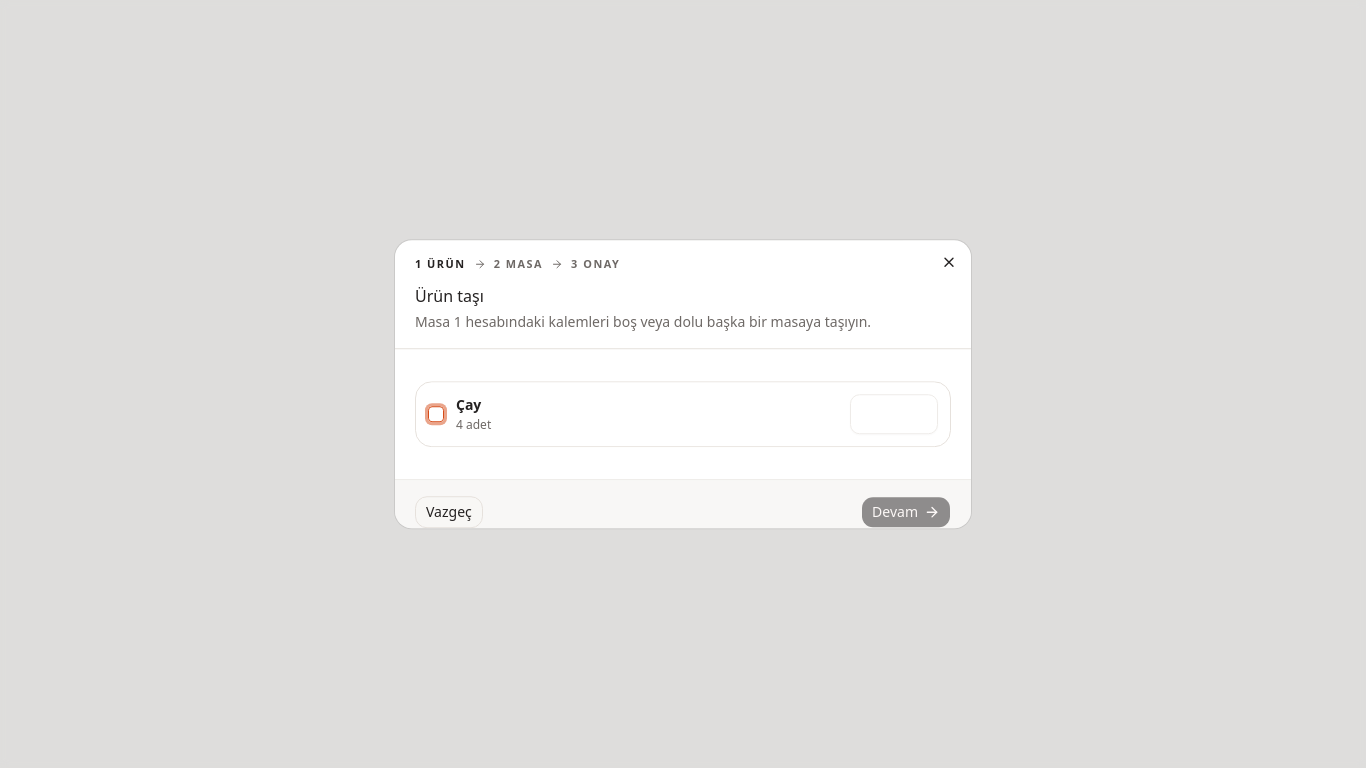
Test: CashierItemTransferDialog › steps by exactly one and stays within the item limits
This screenshot has width=1366, height=768.
Click the checkbox named "Çay ürününü seç" at (436, 414), box [428,406,444,422]
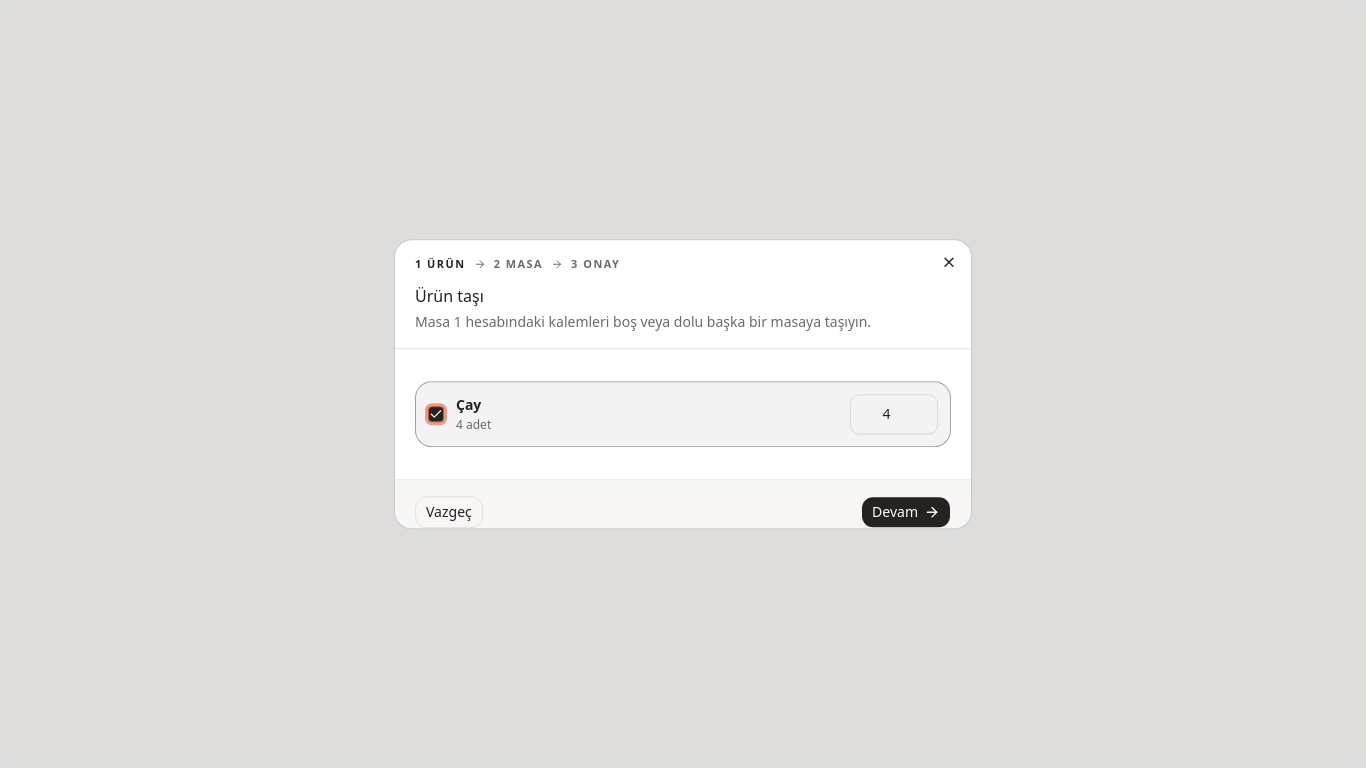
expect the number field named "Çay taşınacak adet" holds "4": met
Press ArrowDown in the number field named "Çay taşınacak adet", box [850,394,938,434]
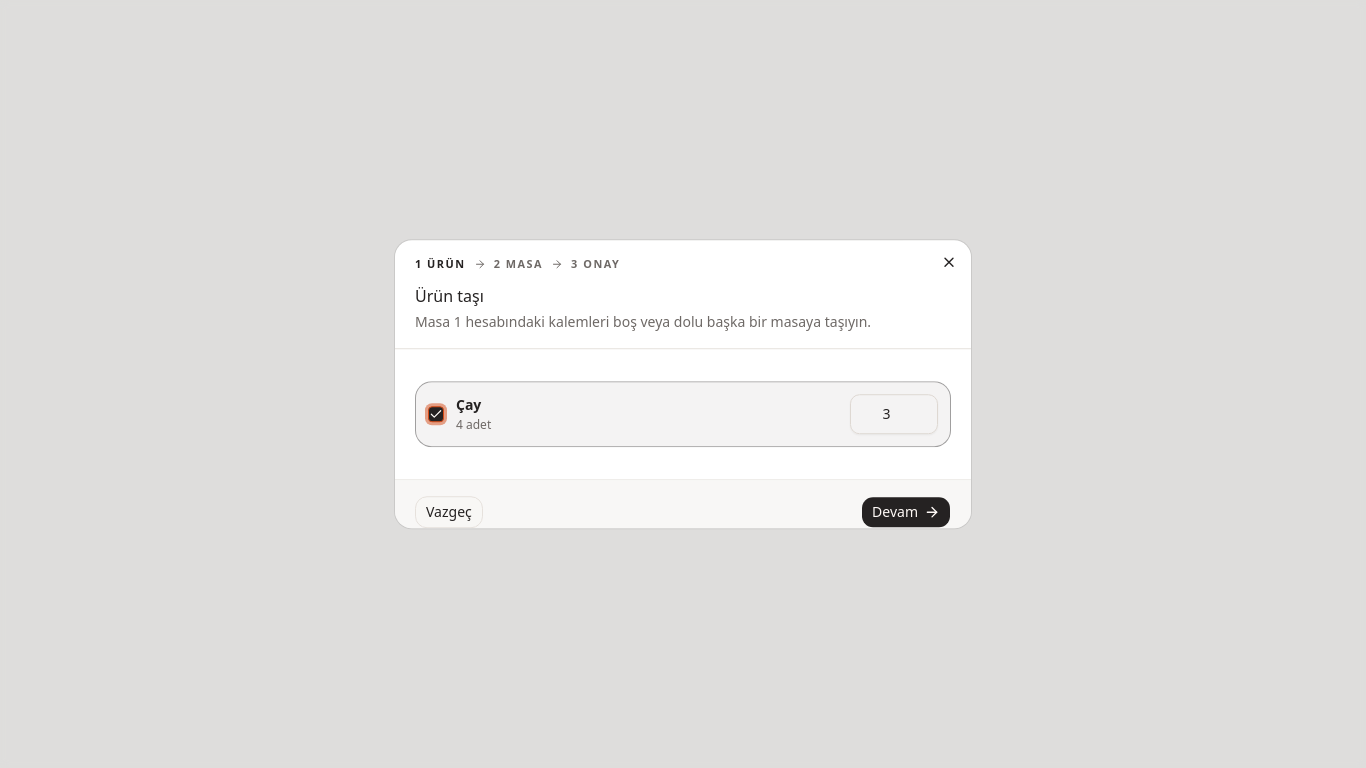
expect the number field named "Çay taşınacak adet" holds "3": met
Press ArrowUp in the number field named "Çay taşınacak adet", box [850,394,938,434]
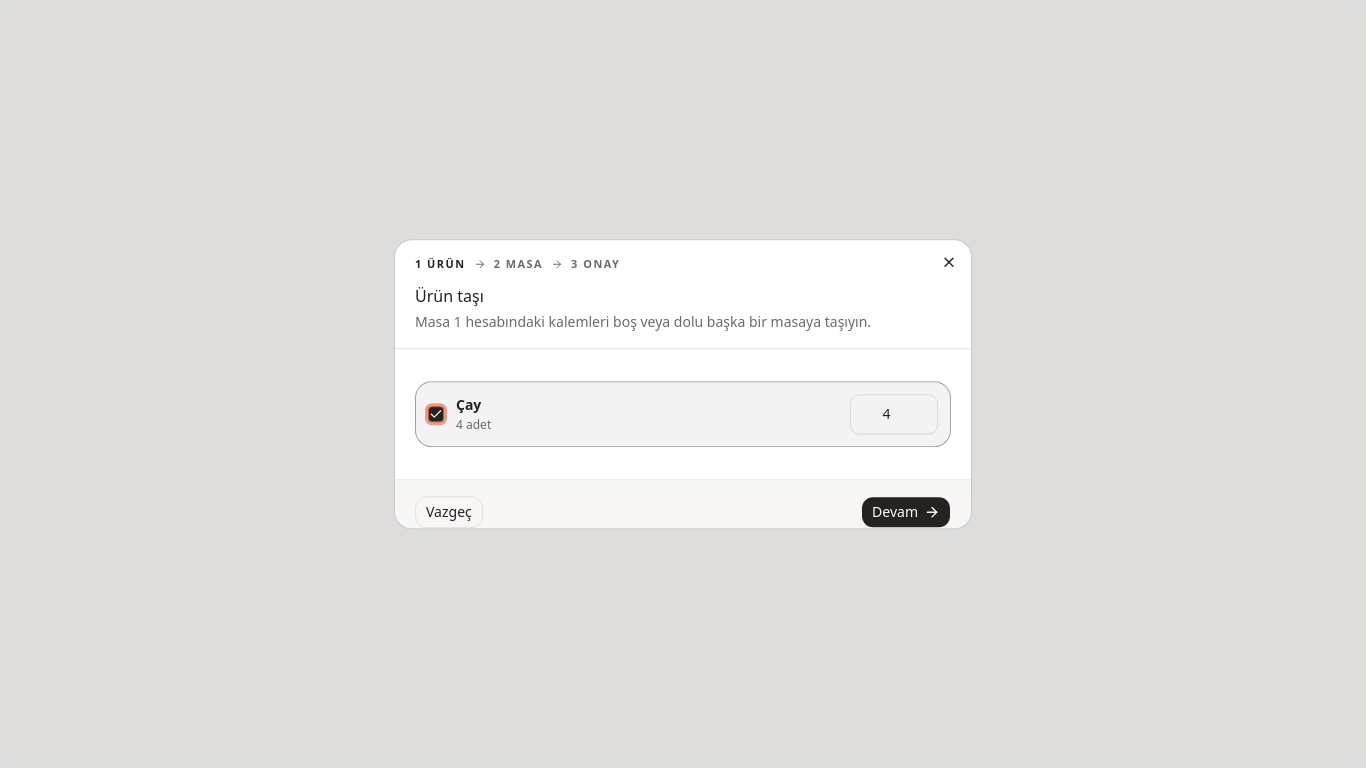
Press ArrowUp in the number field named "Çay taşınacak adet", box [850,394,938,434]
expect the number field named "Çay taşınacak adet" holds "4": met
Replace the text in the number field named "Çay taşınacak adet" with "1" at (894, 414), box [850,394,938,434]
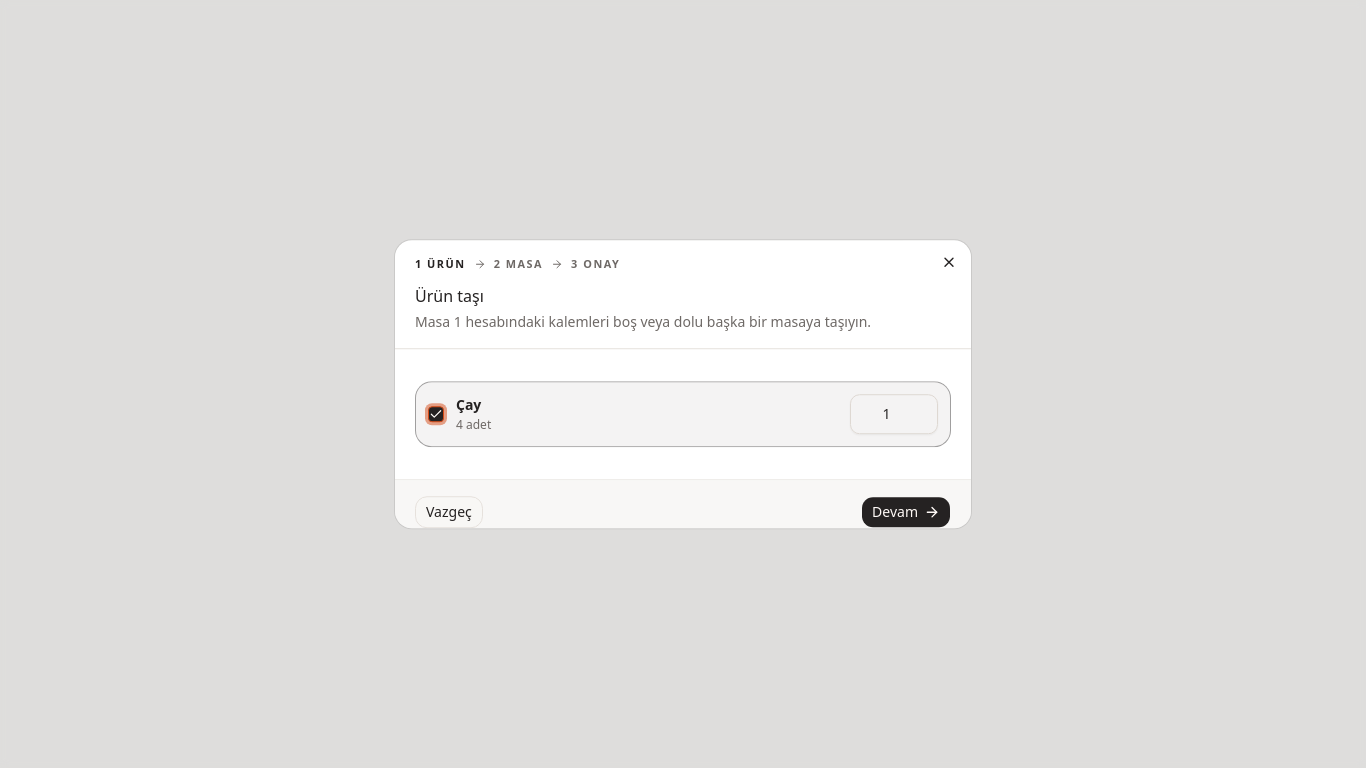
Press ArrowDown in the number field named "Çay taşınacak adet", box [850,394,938,434]
Replace the text in the number field named "Çay taşınacak adet" with "1.5" at (894, 414), box [850,394,938,434]
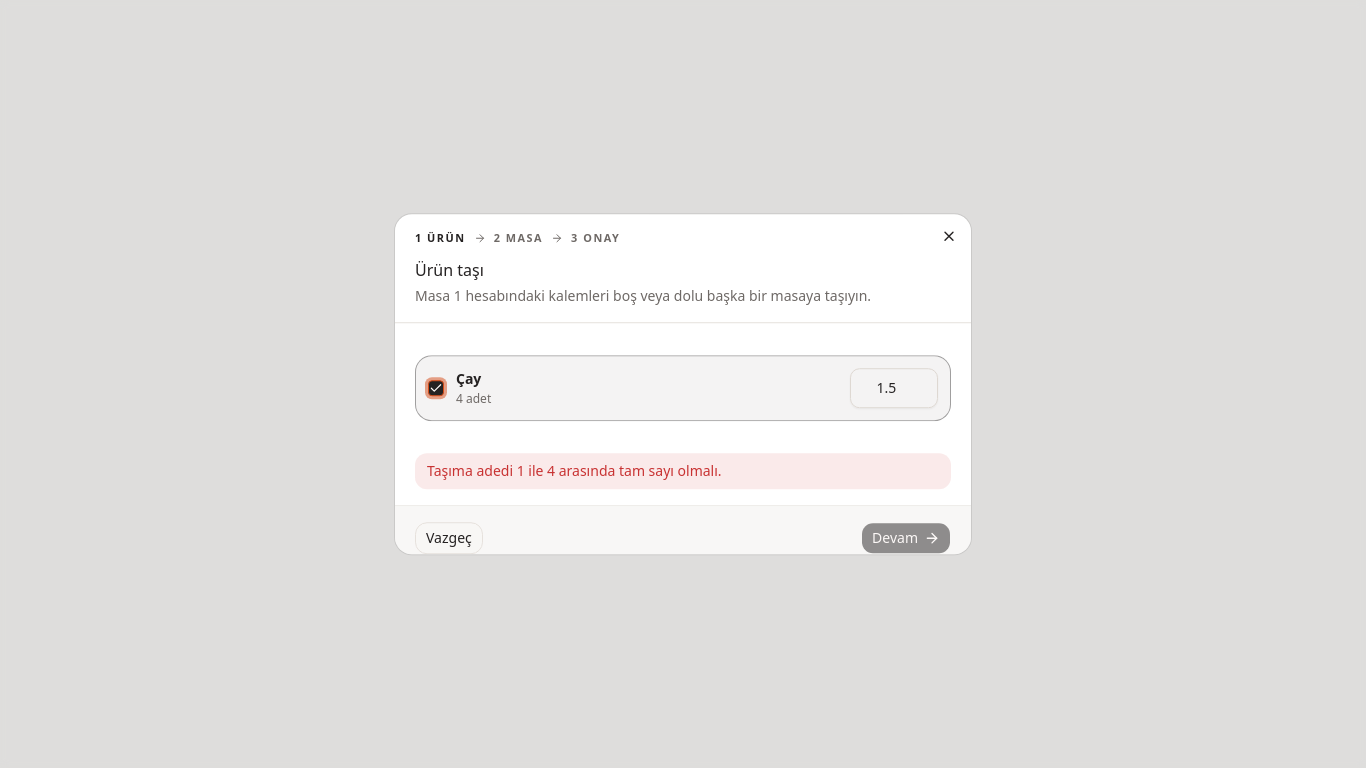
expect the message shows "tam sayı olmalı": met, box [427,461,722,480]
expect the button "Devam" is disabled: met, box [861,522,951,554]
